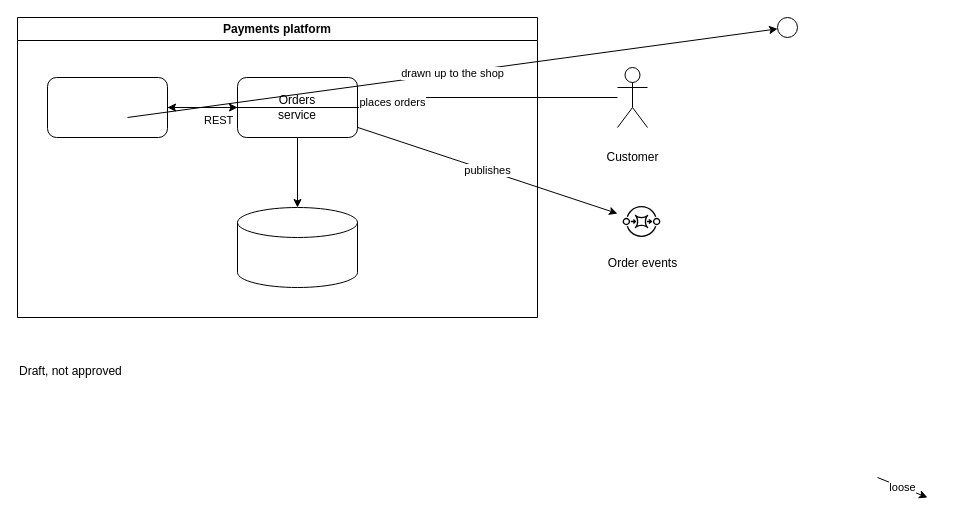
Image size: 953x523. Some labels were removed from this diagram. The shapes that lost their labels are listed below. From the top down, each one's centre as x and y in pixels, then its label:
At pixel 107 107: "Web shop".
At pixel 297 247: "Orders DB".
